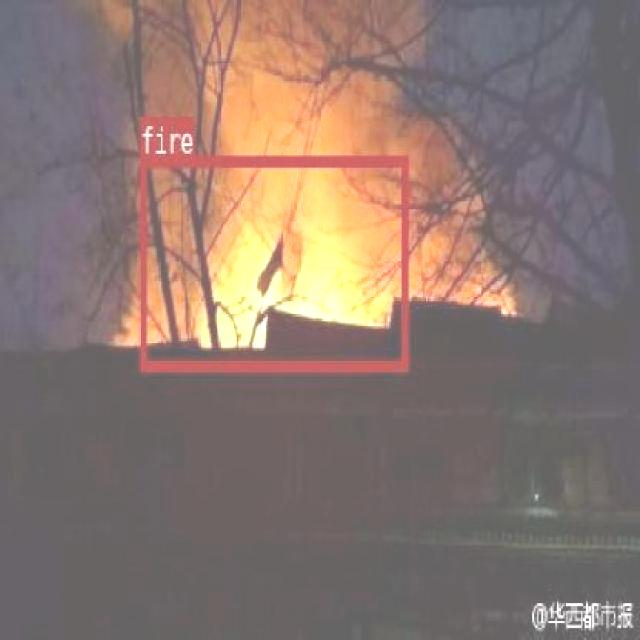fire: (139, 154, 407, 368)
